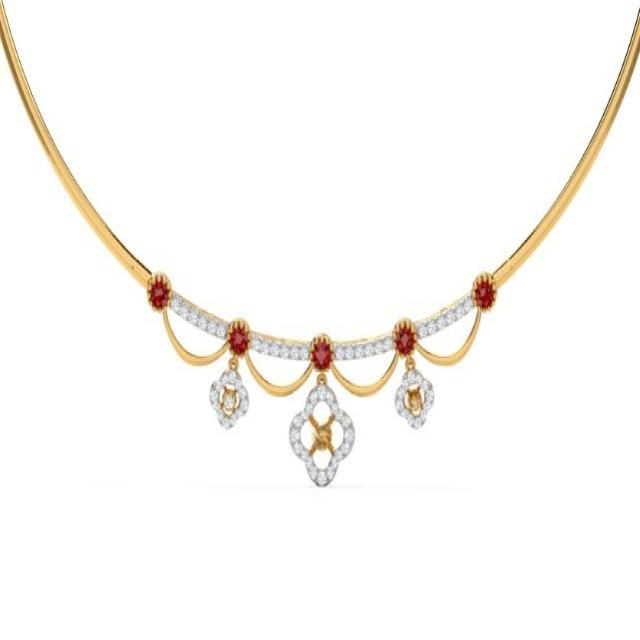missing gem: (312, 424, 332, 453), (409, 390, 422, 411)
